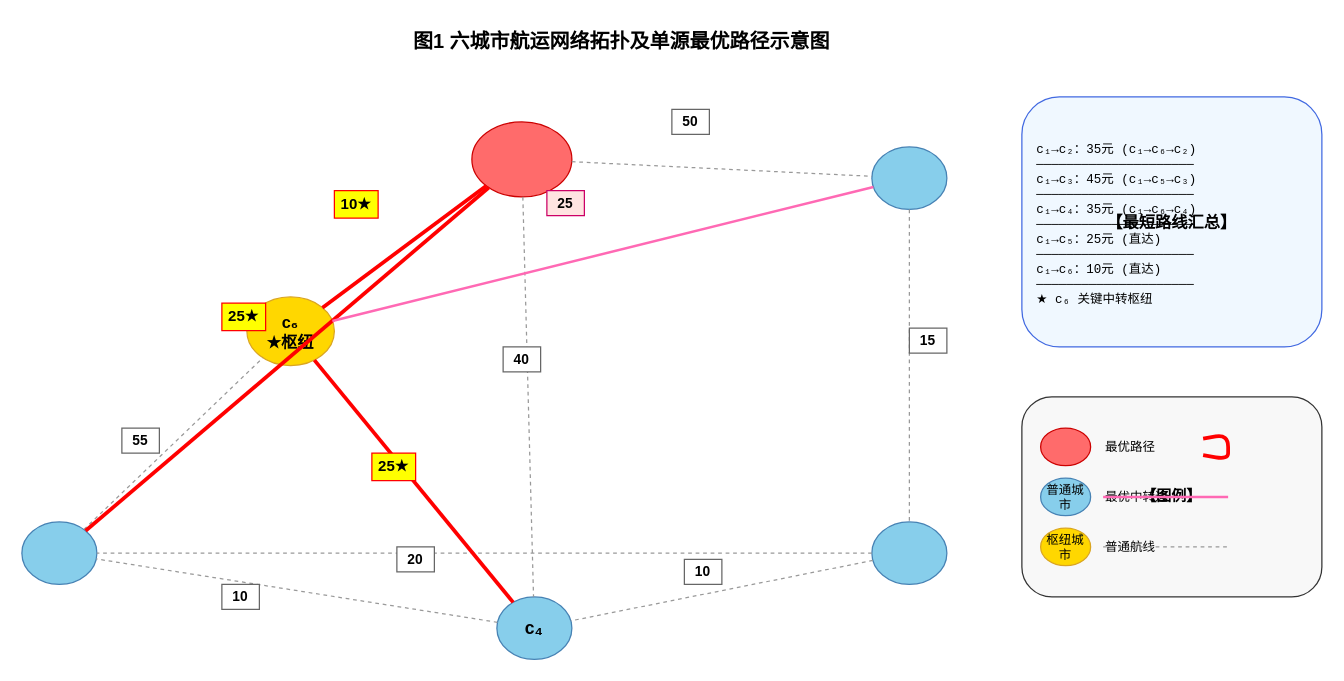
Some shapes in this 1344 by 681 pixel diagram are drawn without their labels. The centre of each missing label's shape, as x and y in pixels:
"c₁ (起点)" belongs at pixel 521 159.
"c₂" belongs at pixel 909 177.
"c₃" belongs at pixel 909 552.
"c₅" belongs at pixel 59 552.
"起点" belongs at pixel 1065 446.
